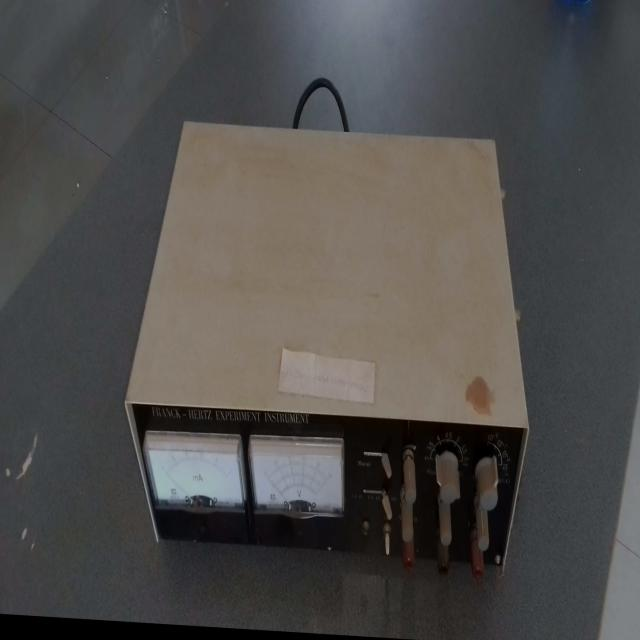Frank-Hertz Experiment Apparatus: (113, 100, 548, 612)
